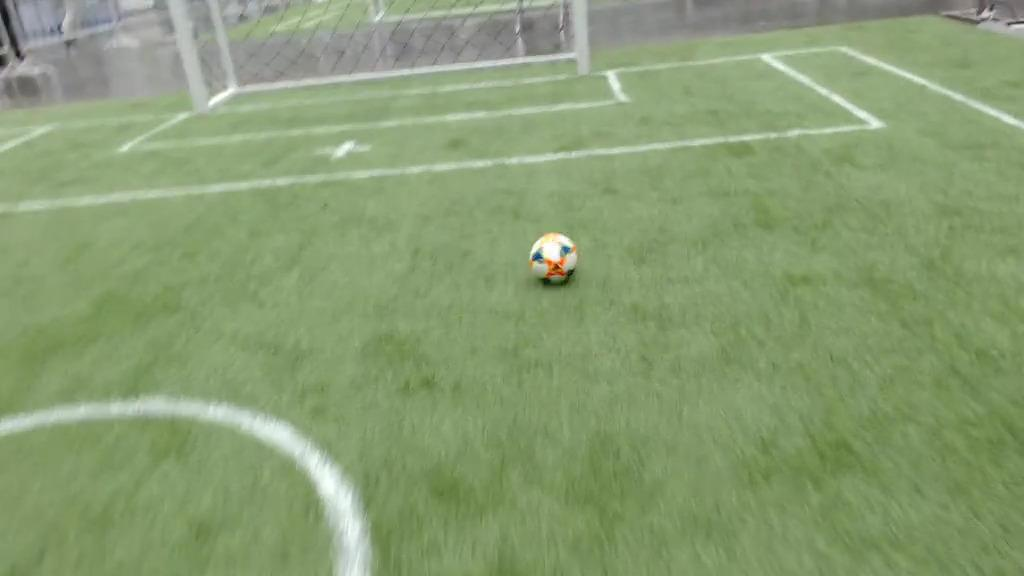ball: (532, 231, 577, 290)
